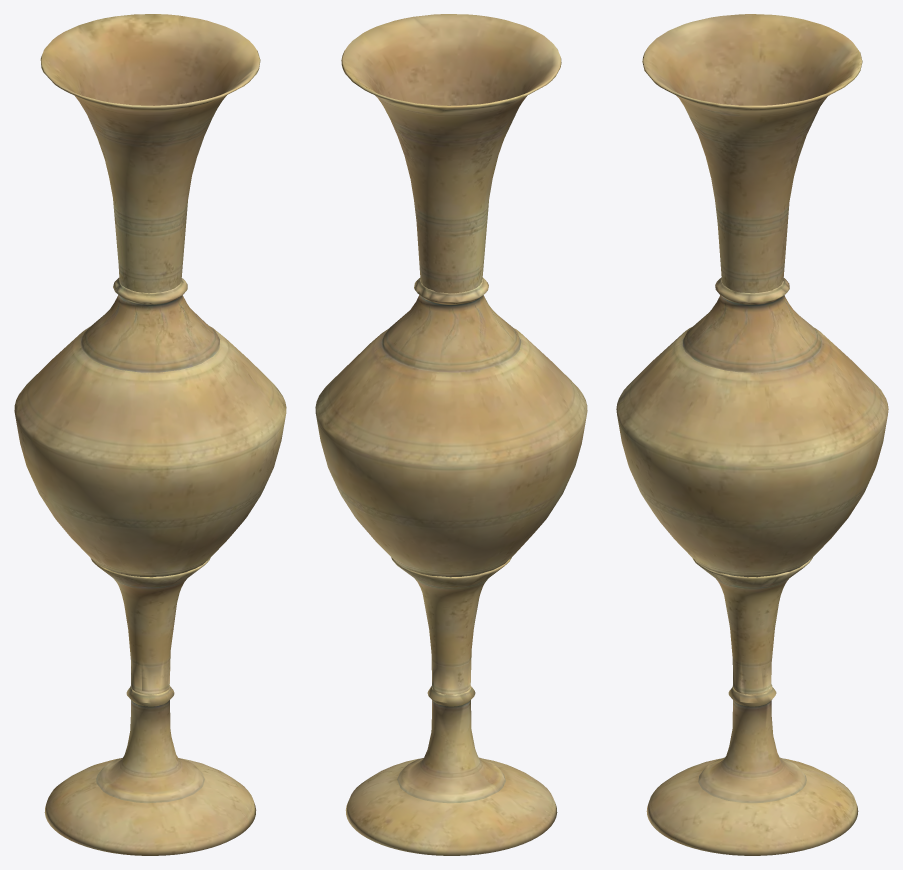
File: brass-vase.glb
3 views of the same model, side by side, from view 1: azimuth 30°, elevation 25°; view 2: azimuth 150°, elevation 25°; view 3: azimuth 270°, elevation 25° (orthographic).
Visible parts, largest first — view 1: brass_vase_01; view 2: brass_vase_01; view 3: brass_vase_01.
Part boxes in pixels (x1,y1,x2,y2): brass_vase_01: [14, 14, 286, 855]; brass_vase_01: [315, 14, 587, 855]; brass_vase_01: [616, 14, 888, 855].
Size of the model in its own units: 0.2272 by 0.6925 by 0.2272.
Materials: 1 (1 with a texture image).
